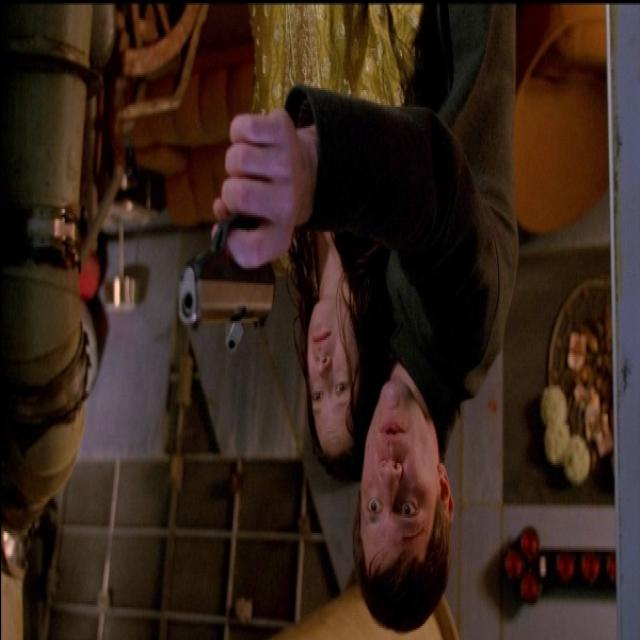weapons: (172, 94, 289, 348)
